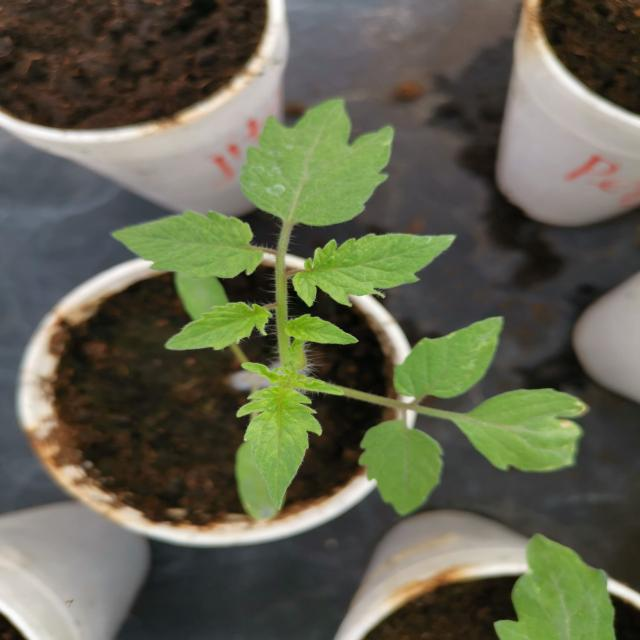T_L_R: (240, 99, 394, 227), (293, 234, 458, 307), (111, 210, 266, 280), (236, 388, 322, 511), (396, 317, 504, 400), (165, 302, 274, 351), (285, 314, 360, 345)
